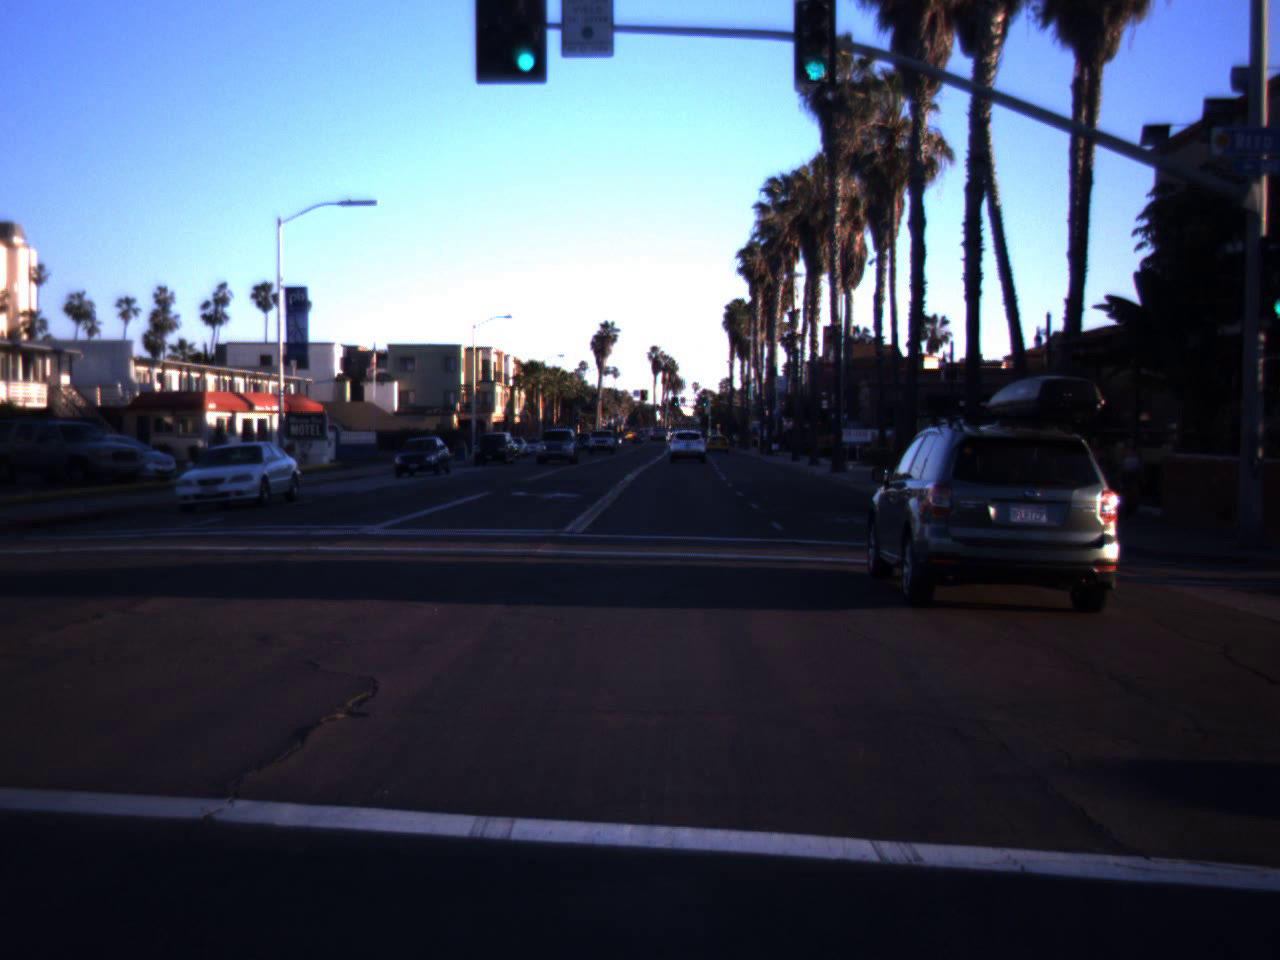go: (505, 0, 547, 78), (798, 24, 828, 84)
